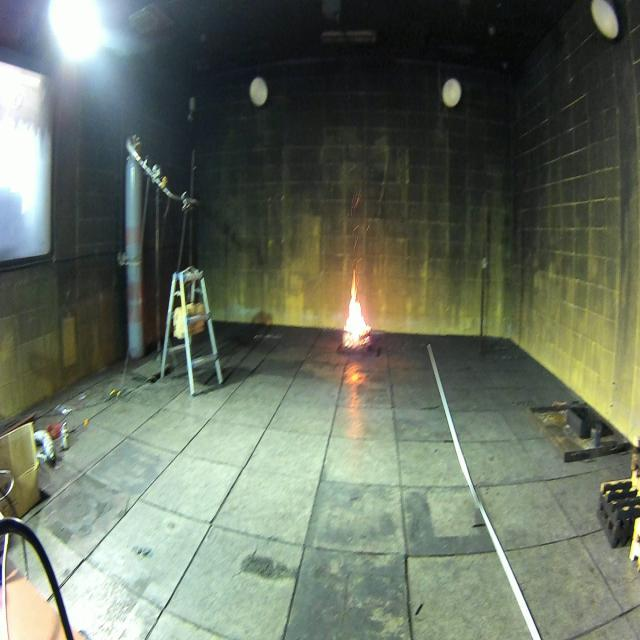Fire: (343, 270, 371, 350)
